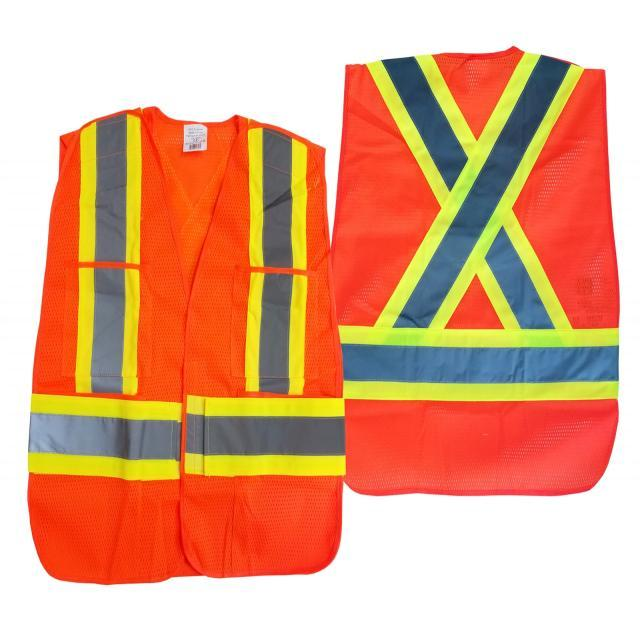reflective_jacket: (11, 104, 350, 599), (318, 45, 623, 503)
